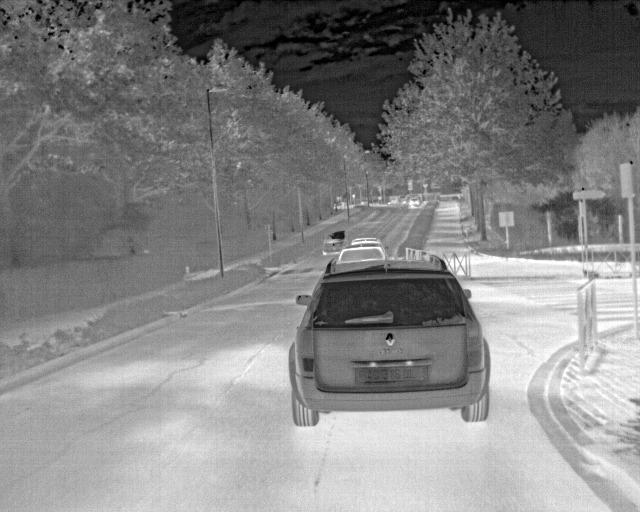car: (288, 260, 491, 426), (335, 243, 389, 264), (322, 230, 350, 255), (350, 238, 381, 246), (409, 198, 422, 208), (413, 196, 423, 208), (397, 195, 407, 204)
light: (378, 186, 380, 191), (384, 186, 386, 191)
sign: (620, 163, 634, 198), (573, 190, 606, 199), (498, 211, 514, 226), (422, 184, 428, 188), (408, 183, 413, 186), (408, 180, 413, 183), (378, 197, 382, 200), (408, 188, 413, 190), (408, 186, 413, 188), (352, 194, 355, 197)
